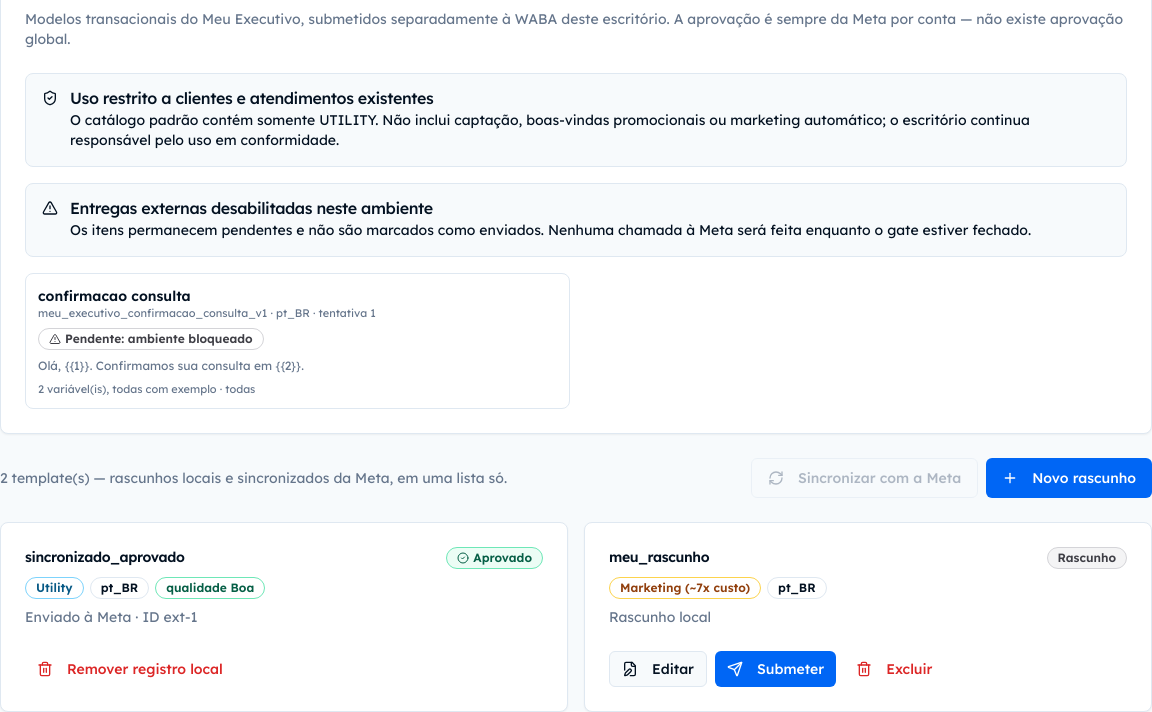
Test: WhatsAppMetaTemplates: builder de rascunho › valida em linha e mostra a prévia do balão ao digitar
(page scrolled)
expect the text "sincronizado_aprovado" is shown: met, box [25,547,185,567]
Click the button "Novo rascunho".
click(1069, 478)  # box [986,458,1151,498]
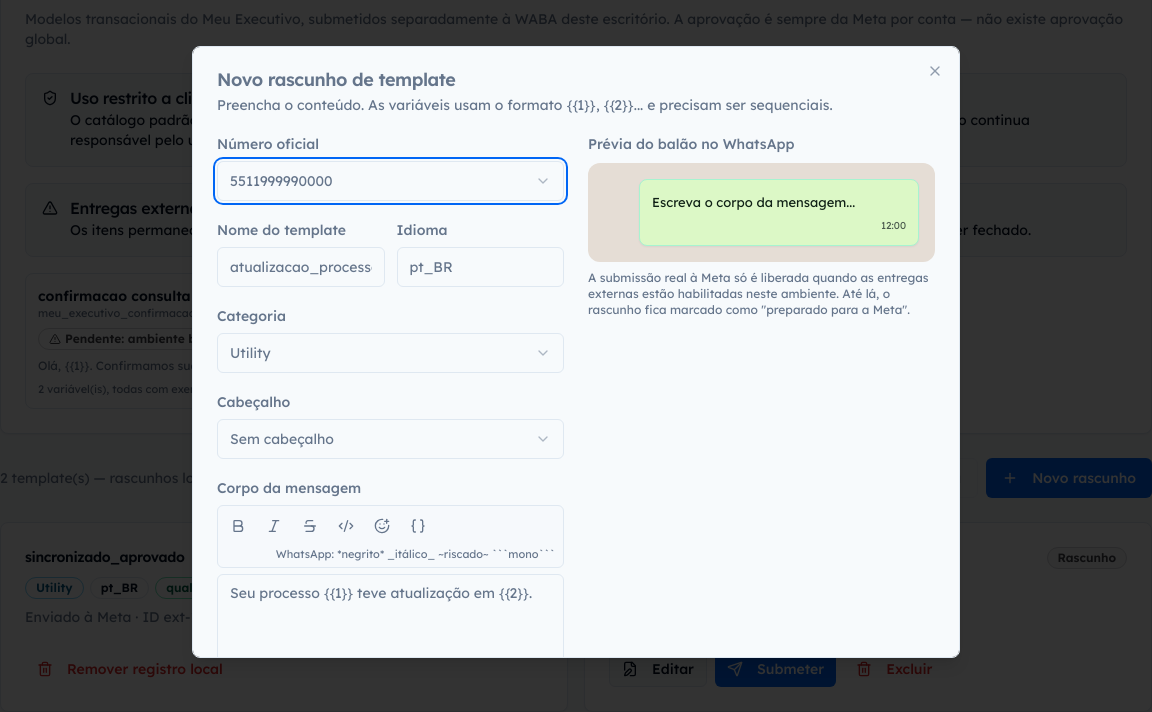
expect the heading "Novo rascunho de template" is shown: met, box [217,68,455,91]
Type "Olá, seu processo teve atualização." into the text box with placeholder "Seu processo {{1}} teve atualização em {{2}}.".
click(390, 622); type("Olá, seu processo teve atualização.")  # box [217,574,564,672]
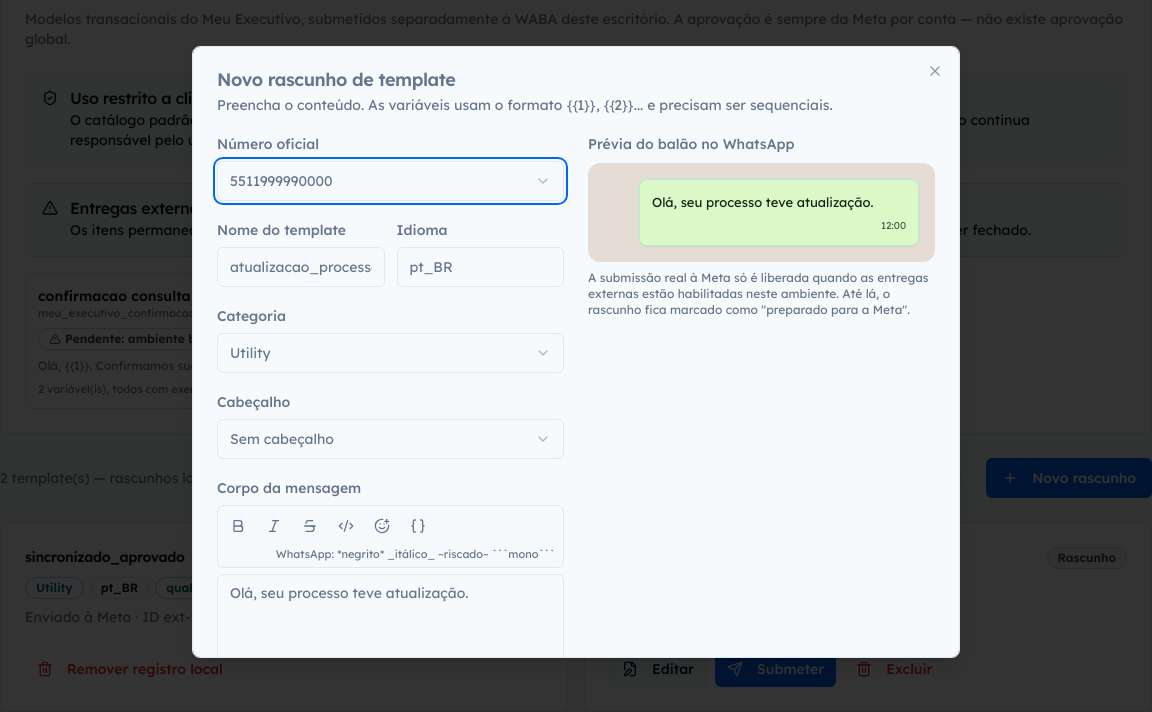
expect the element with test id "template-preview-body" reads "Olá, seu processo teve atualização.": met, box [652,194,874,210]
